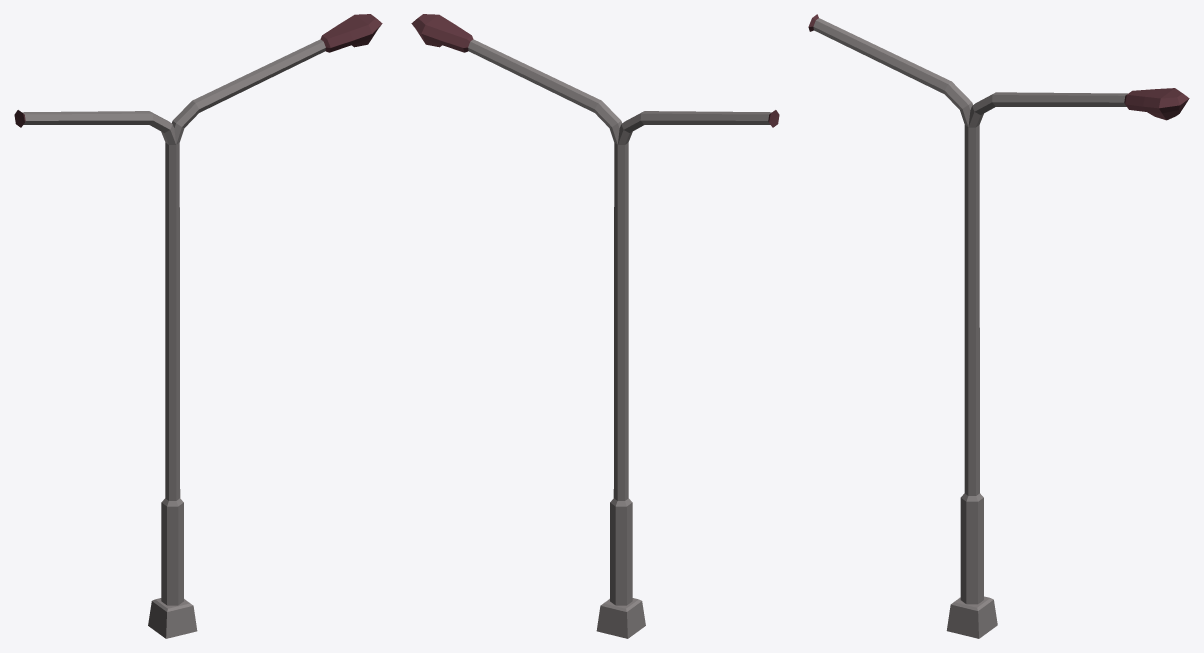
The model's file is lamp-road-double-apocalypse-a.fbx.
The picture shows the model from 3 angles, left to right: view 1: azimuth 30°, elevation 25°; view 2: azimuth 150°, elevation 25°; view 3: azimuth 330°, elevation 25°; orthographic projection. The views are drawn at different scales.
Parts seen in each view (by area): view 1: lamp-road-double-apocalypse-a; view 2: lamp-road-double-apocalypse-a; view 3: lamp-road-double-apocalypse-a.
Boxes of the visible parts, x1,y1,x2,y2 form: lamp-road-double-apocalypse-a: (14, 14, 382, 638); lamp-road-double-apocalypse-a: (411, 14, 779, 638); lamp-road-double-apocalypse-a: (808, 14, 1189, 638).
Size of the model in its own units: 6.31 by 9.46 by 0.5996.
